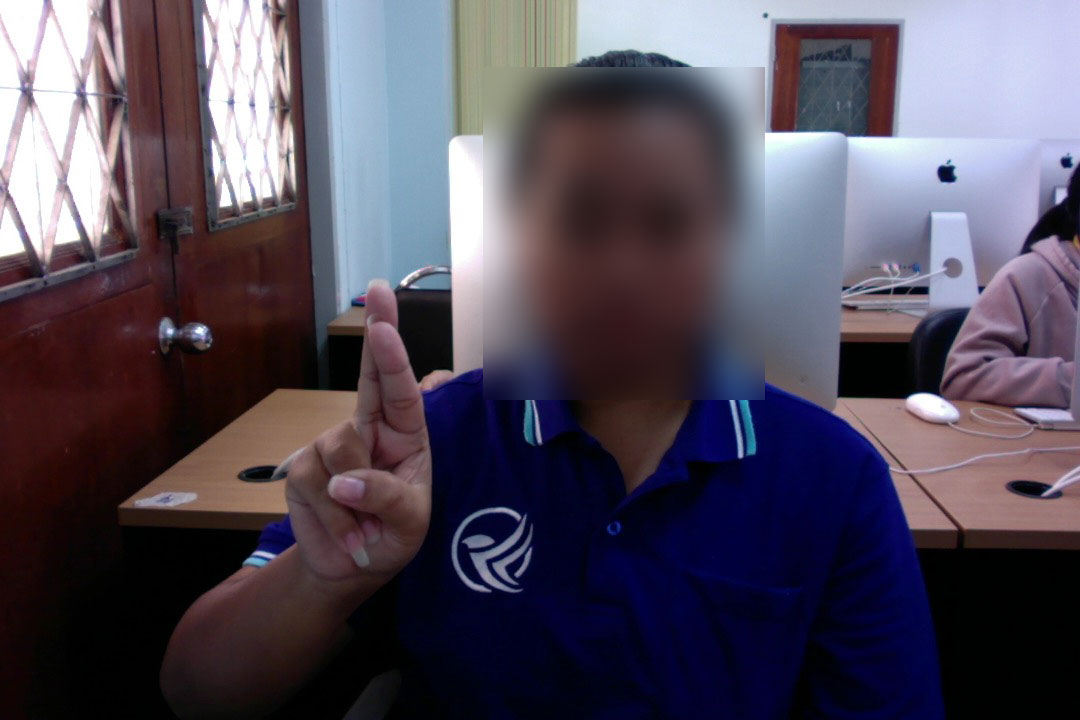rao: (262, 278, 441, 598)
